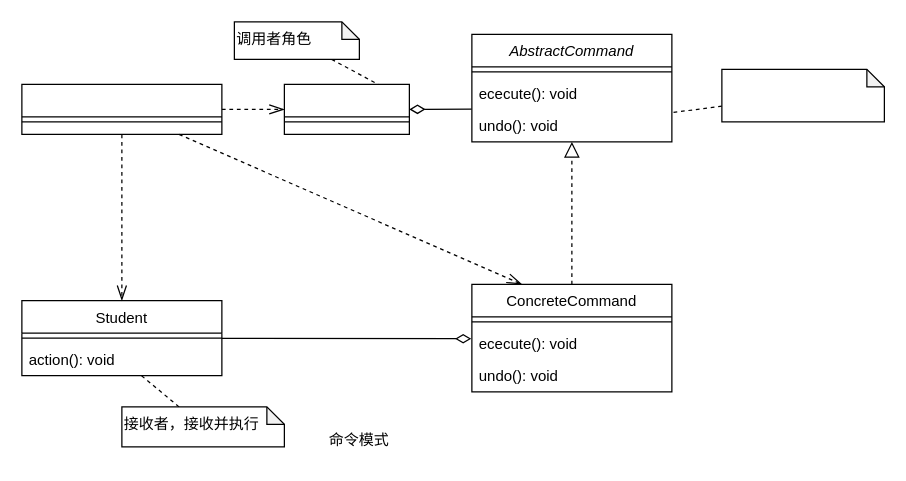
This 906x481 diagram has some shape labels left out. Each missing label, with the centre of its shape:
Cliient: (x=121, y=108)
Invoker: (x=346, y=108)
命令角色，将需要执行的命令封装: (x=802, y=95)
